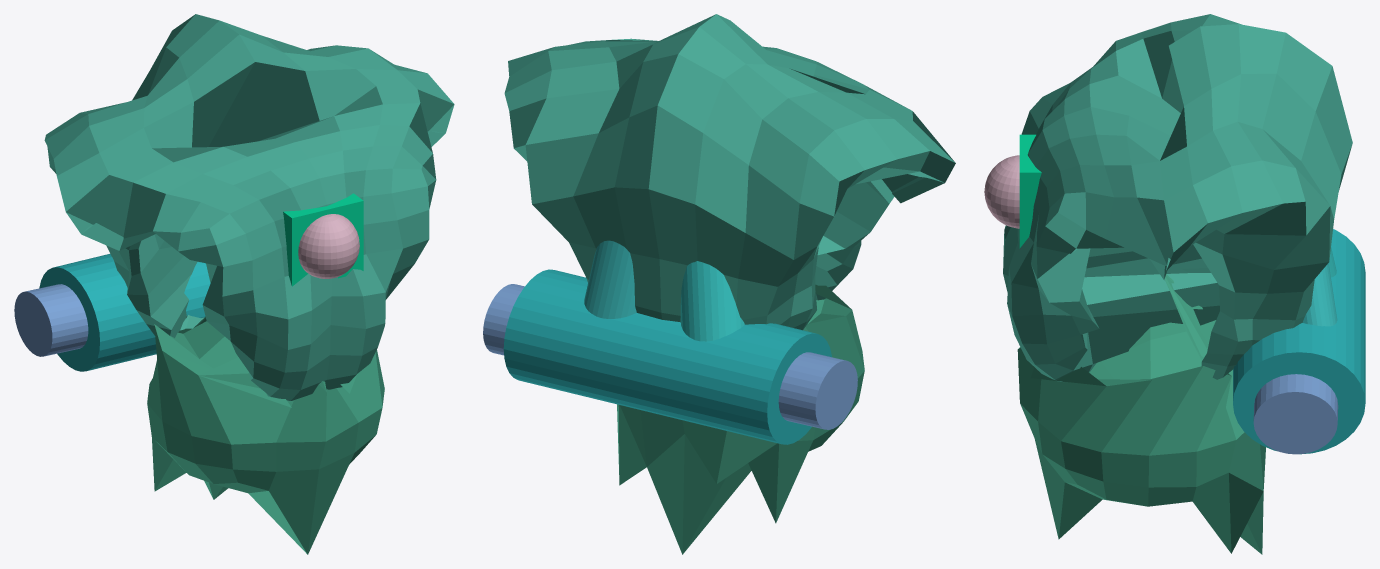
Rendered from CharacterArmor.fbx.
3 views of the same model, side by side, from view 1: azimuth 30°, elevation 25°; view 2: azimuth 150°, elevation 25°; view 3: azimuth 270°, elevation 25° (orthographic). The views are drawn at different scales.
Visible parts, largest first — view 1: Cube, Cube.001, Cylinder, Cylinder.003, Sphere, Cube.002; view 2: Cube, Cylinder, Cube.001, Cylinder.003, Cylinder.002, Cylinder.001; view 3: Cube, Cube.001, Cylinder, Cylinder.003, Sphere, Cube.002, Cylinder.001.
Boxes of the visible parts, x1,y1,x2,y2 form: Cube: [44, 14, 454, 400]; Cube.001: [147, 317, 384, 554]; Cylinder: [39, 254, 210, 371]; Cylinder.003: [14, 284, 88, 356]; Sphere: [298, 214, 359, 278]; Cube.002: [283, 193, 363, 286]; Cube: [504, 14, 955, 330]; Cylinder: [503, 269, 831, 444]; Cube.001: [617, 284, 864, 554]; Cylinder.003: [483, 284, 857, 429]; Cylinder.002: [680, 261, 744, 341]; Cylinder.001: [584, 240, 636, 318]; Cube: [1003, 14, 1352, 382]; Cube.001: [1017, 274, 1265, 554]; Cylinder: [1233, 229, 1365, 454]; Cylinder.003: [1253, 374, 1338, 454]; Sphere: [984, 155, 1019, 228]; Cube.002: [1019, 134, 1041, 248]; Cylinder.001: [1302, 263, 1337, 326].
Bounding box in the file's own units: 118 × 137 × 89.64.
